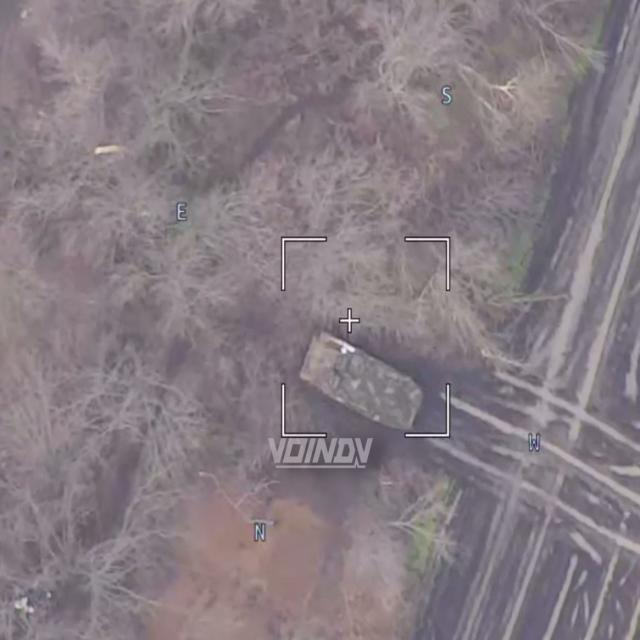vehicle: (292, 318, 432, 444)
